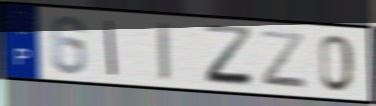0: (318, 33, 356, 93)
6: (49, 14, 88, 76)
I: (156, 20, 172, 84), (104, 18, 119, 78)
Z: (202, 22, 257, 90), (258, 28, 309, 91)
